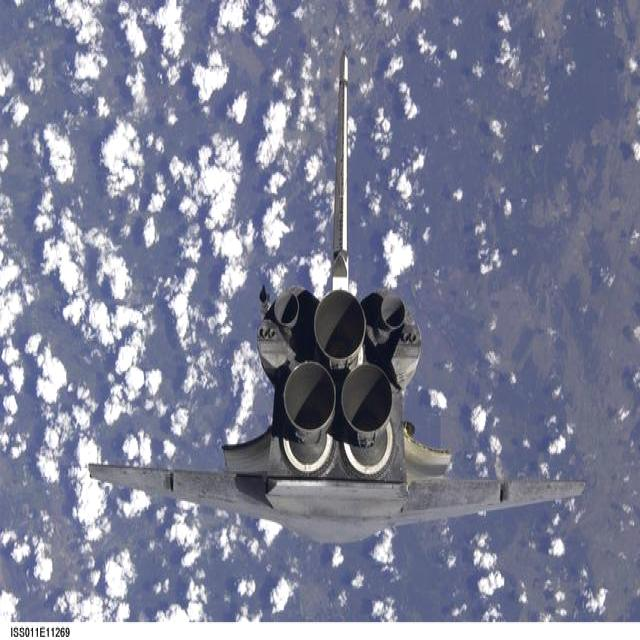medium_debris: (89, 52, 584, 543)
